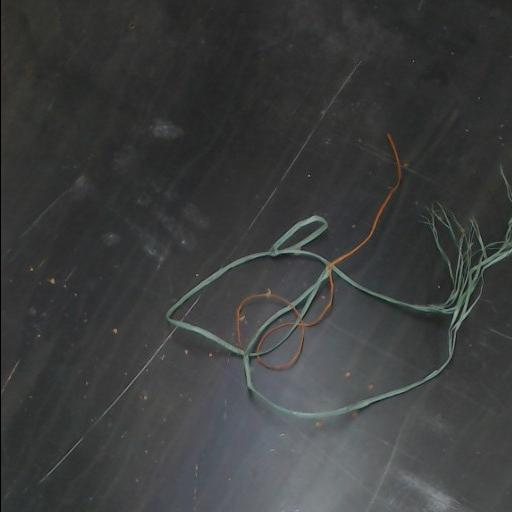conveyor belt: (1, 0, 512, 511), (254, 282, 446, 408)
thread: (166, 143, 512, 418)
